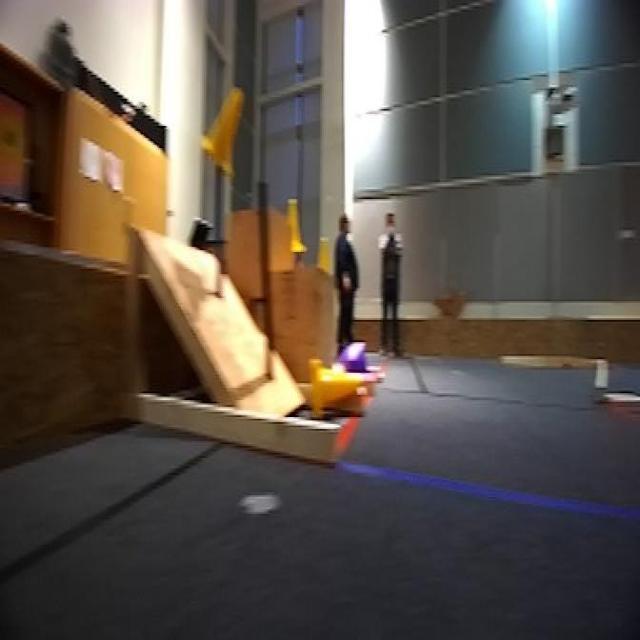frc_cone: (199, 89, 244, 177), (308, 359, 364, 419), (280, 196, 305, 258), (318, 238, 334, 278)
frc_cube: (341, 342, 370, 385)
